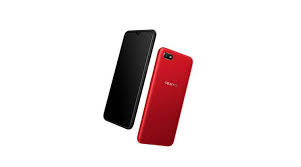oppo: (129, 45, 195, 152)
